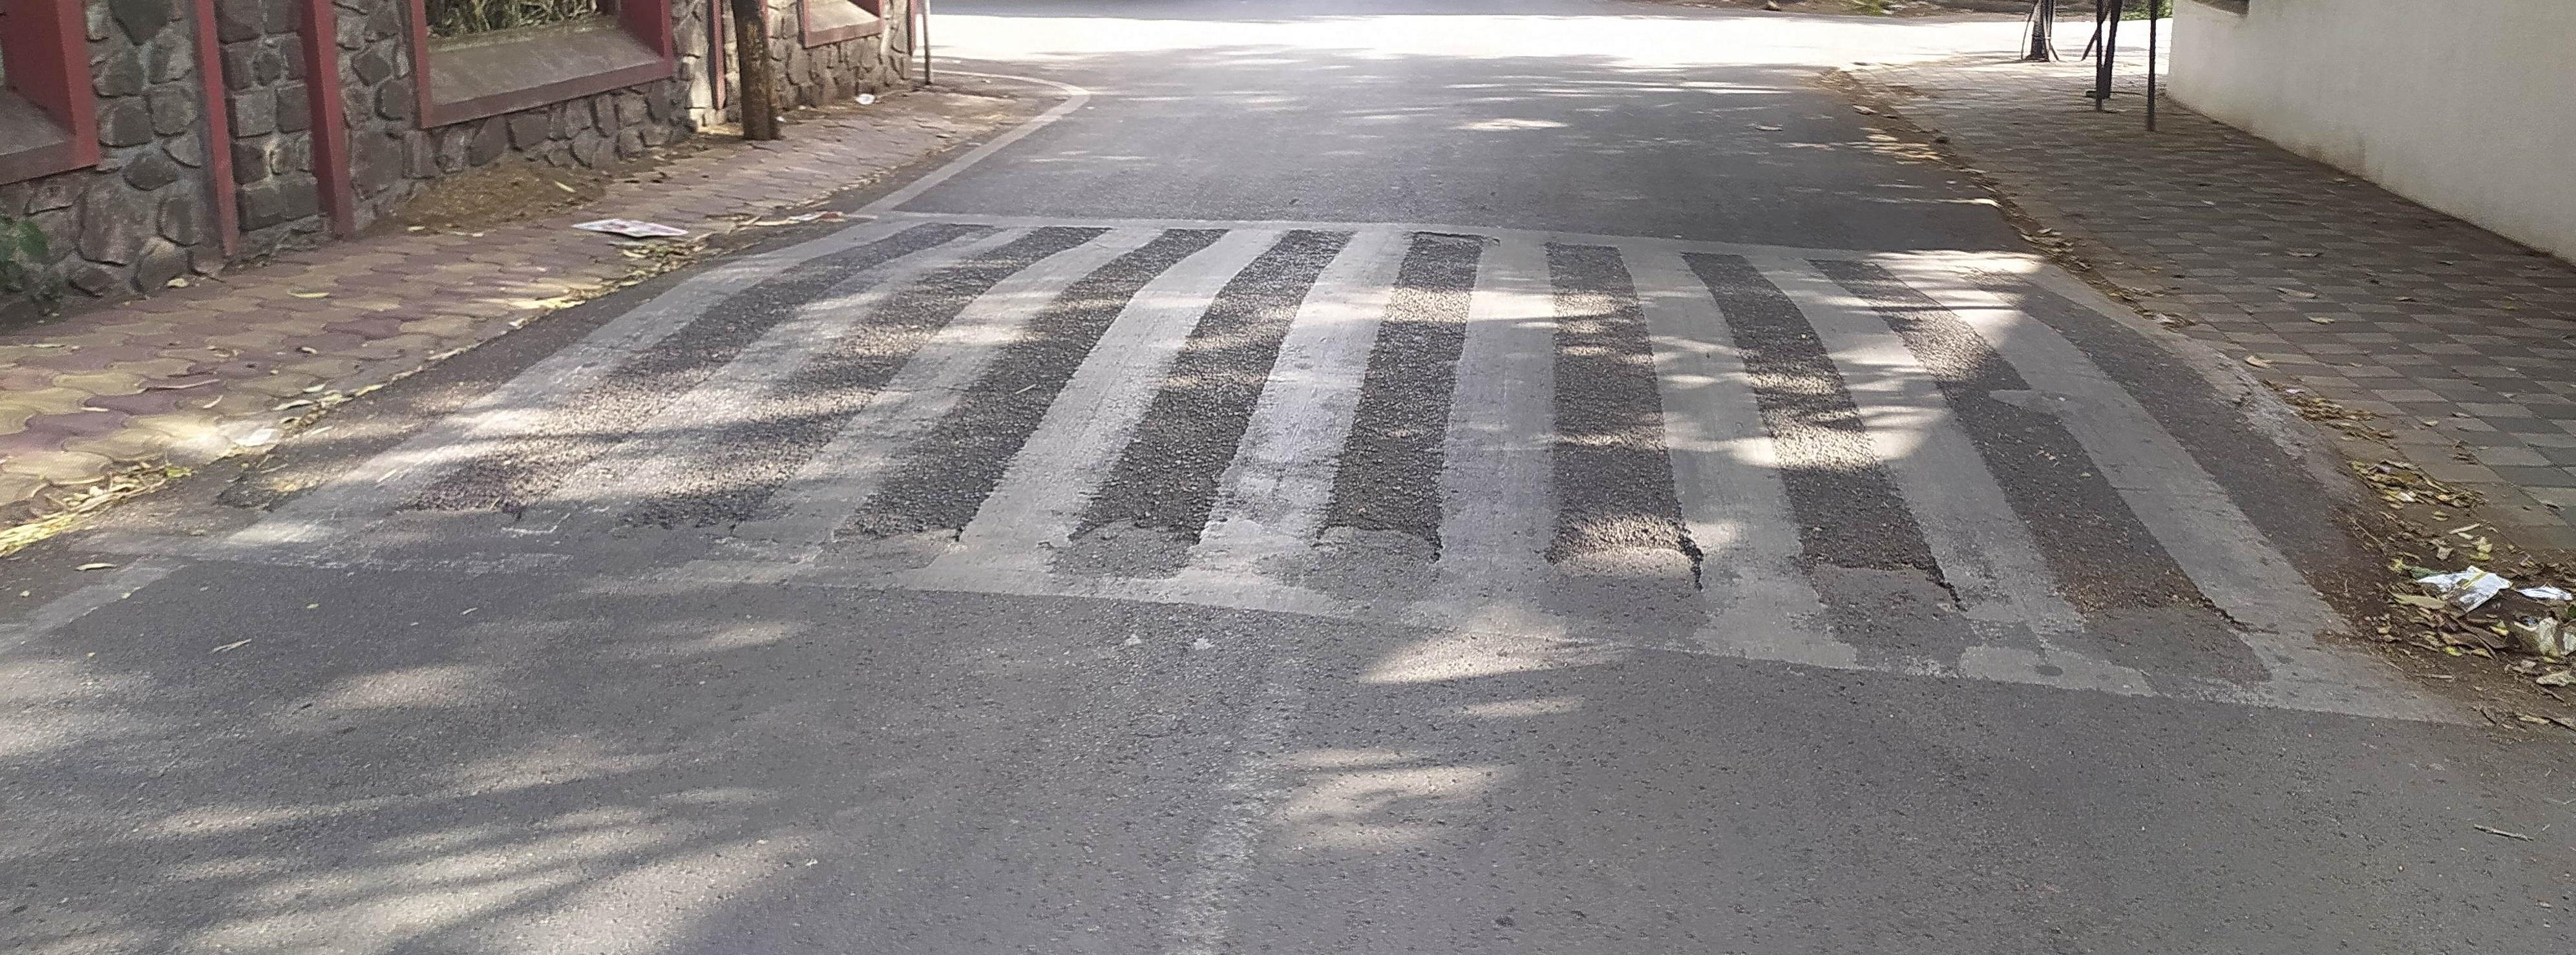speed-bump: (224, 209, 2380, 620)
